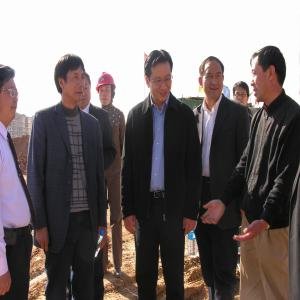none: (250, 45, 289, 103), (53, 53, 87, 106), (147, 50, 177, 102), (2, 64, 22, 129), (199, 55, 227, 101), (76, 72, 93, 110), (232, 79, 251, 107)
red: (96, 72, 117, 108)
